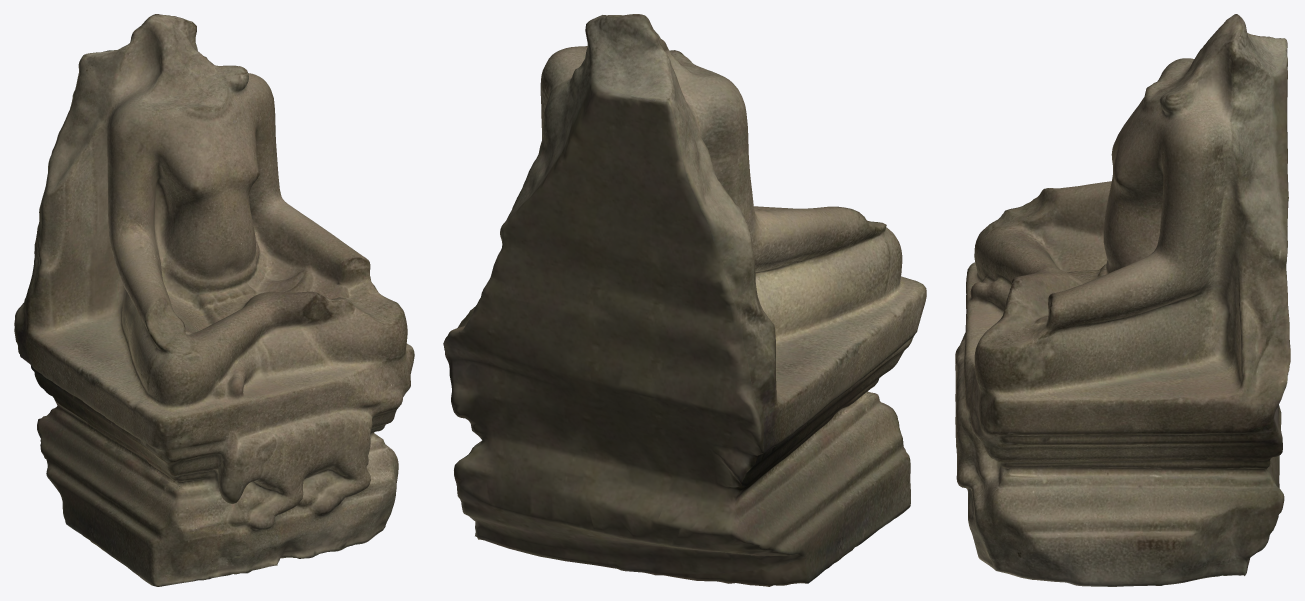
The model's file is 14_thanphuonghuong_agni_final.glb.
The picture shows the model from 3 angles, left to right: view 1: azimuth 30°, elevation 25°; view 2: azimuth 150°, elevation 25°; view 3: azimuth 270°, elevation 25°; orthographic projection. The views are drawn at different scales.
Size of the model in its own units: 0.3289 by 0.534 by 0.329.
Materials: 1 (1 with a texture image).
